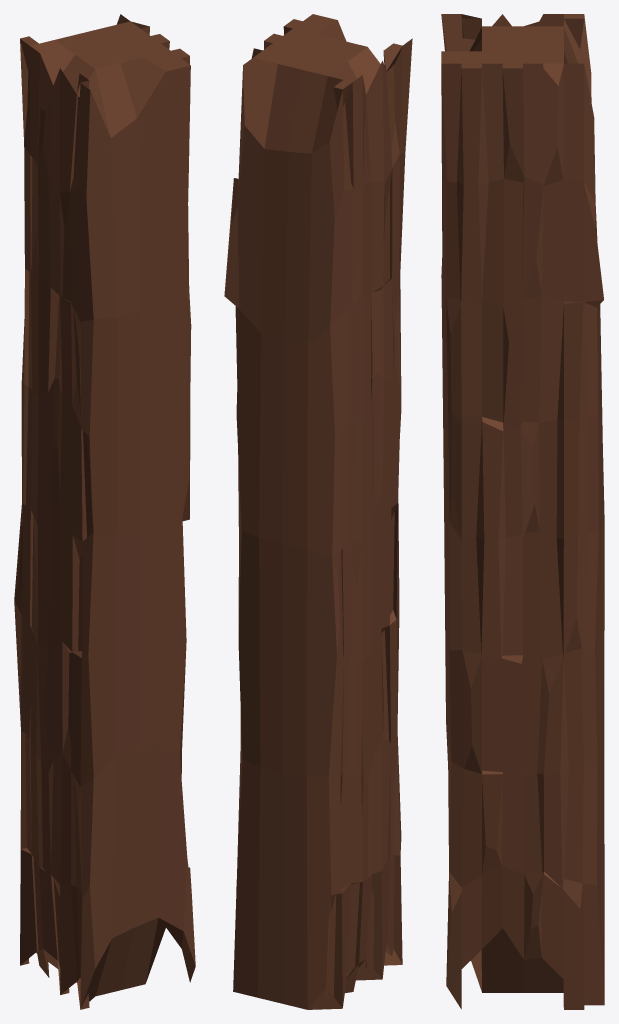
File: woodfence.glb
3 renders of one model, left to right at view 1: azimuth 30°, elevation 25°; view 2: azimuth 150°, elevation 25°; view 3: azimuth 270°, elevation 25°, orthographic. The views are drawn at different scales.
Parts seen in each view (by area): view 1: Cube; view 2: Cube; view 3: Cube.
Boxes of the visible parts, x1,y1,x2,y2 form: Cube: (14, 14, 195, 1009); Cube: (224, 14, 412, 1009); Cube: (441, 14, 604, 1009).
Bounding box in the file's own units: 0.8181 × 6.52 × 1.03.
